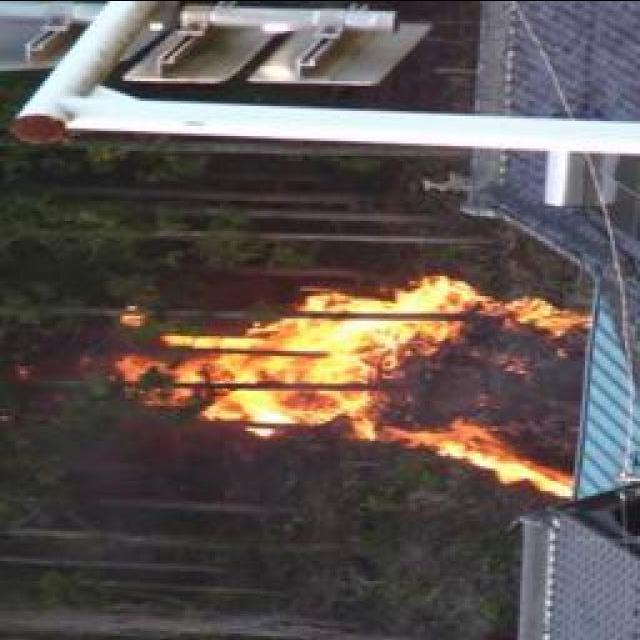Fire: (119, 276, 596, 487)
